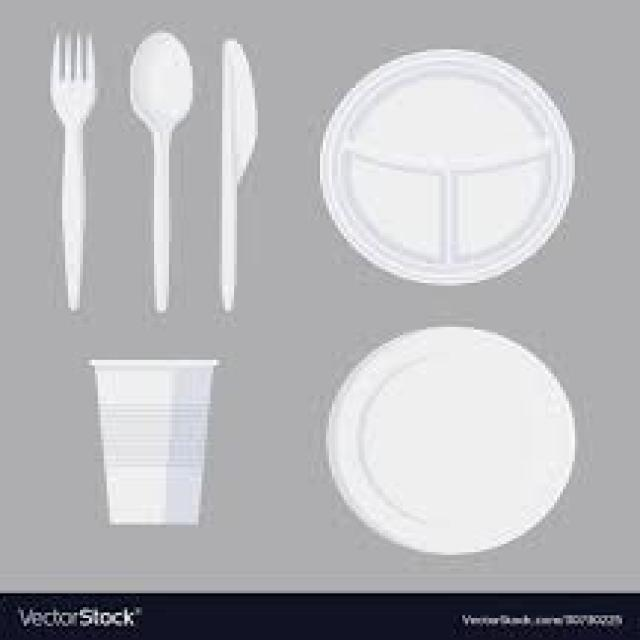plastic utensil: (131, 31, 193, 313), (50, 30, 96, 311), (220, 39, 258, 312)
